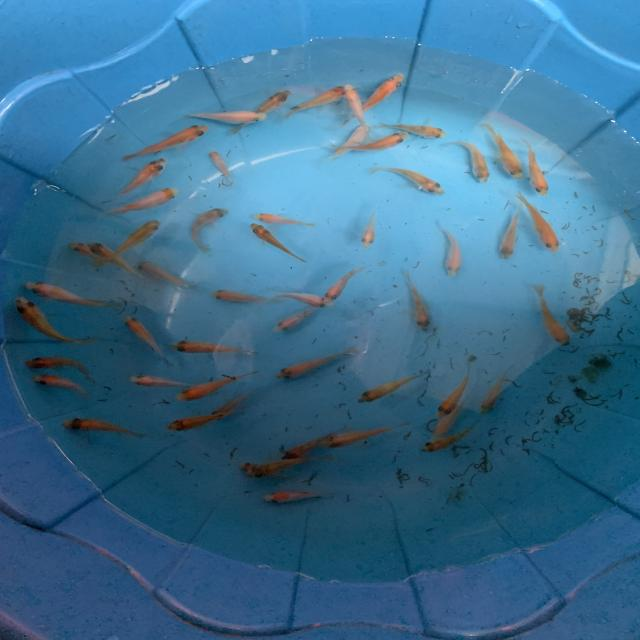nila: (84, 209, 174, 273), (13, 290, 98, 350), (312, 415, 424, 455), (89, 187, 188, 229), (165, 364, 264, 406), (356, 157, 448, 202), (522, 279, 578, 350), (342, 70, 415, 124), (227, 85, 304, 136), (270, 343, 361, 386), (22, 278, 133, 312), (419, 378, 472, 449), (84, 232, 151, 286), (104, 151, 168, 207), (130, 247, 203, 296), (242, 219, 312, 270), (123, 124, 210, 165), (202, 376, 272, 424), (514, 190, 566, 254), (474, 118, 525, 183), (280, 80, 354, 124), (353, 365, 431, 406), (120, 314, 178, 369), (57, 408, 148, 442), (19, 345, 100, 383), (412, 420, 492, 458), (187, 202, 236, 263), (426, 364, 478, 421), (252, 480, 340, 512), (164, 334, 260, 363), (475, 357, 521, 416), (446, 132, 492, 190), (224, 452, 312, 481), (323, 119, 378, 165), (277, 426, 351, 460), (399, 265, 434, 335), (335, 126, 408, 158), (246, 204, 322, 234), (25, 367, 94, 400), (265, 299, 330, 334), (242, 454, 313, 486), (119, 368, 203, 394), (162, 407, 240, 434), (66, 242, 124, 278), (323, 261, 370, 305), (376, 114, 448, 142), (210, 285, 284, 311), (522, 137, 552, 200), (178, 106, 270, 126), (492, 207, 524, 261), (341, 78, 371, 134), (437, 220, 464, 278), (204, 146, 240, 188), (269, 291, 340, 311), (356, 206, 383, 254)
